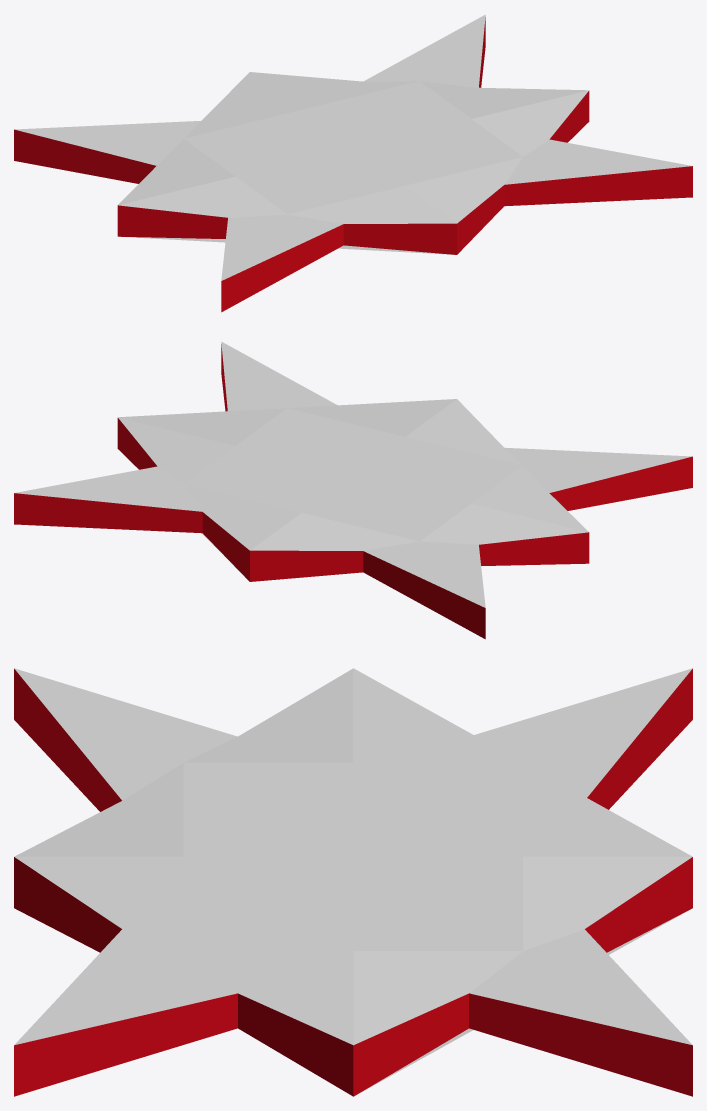
Rendered from Unstable3.fbx.
The picture shows the model from 3 angles, top to bottom: view 1: azimuth 30°, elevation 25°; view 2: azimuth 150°, elevation 25°; view 3: azimuth 270°, elevation 25°; orthographic projection. The views are drawn at different scales.
Parts seen in each view (by area): view 1: UnstablePlatform2; view 2: UnstablePlatform2; view 3: UnstablePlatform2.
Part boxes in pixels (x1=…): UnstablePlatform2: x1=14, y1=14, x2=692, y2=312; UnstablePlatform2: x1=14, y1=341, x2=692, y2=639; UnstablePlatform2: x1=14, y1=668, x2=692, y2=1096.
Size of the model in its own units: 503 by 31.97 by 383.
